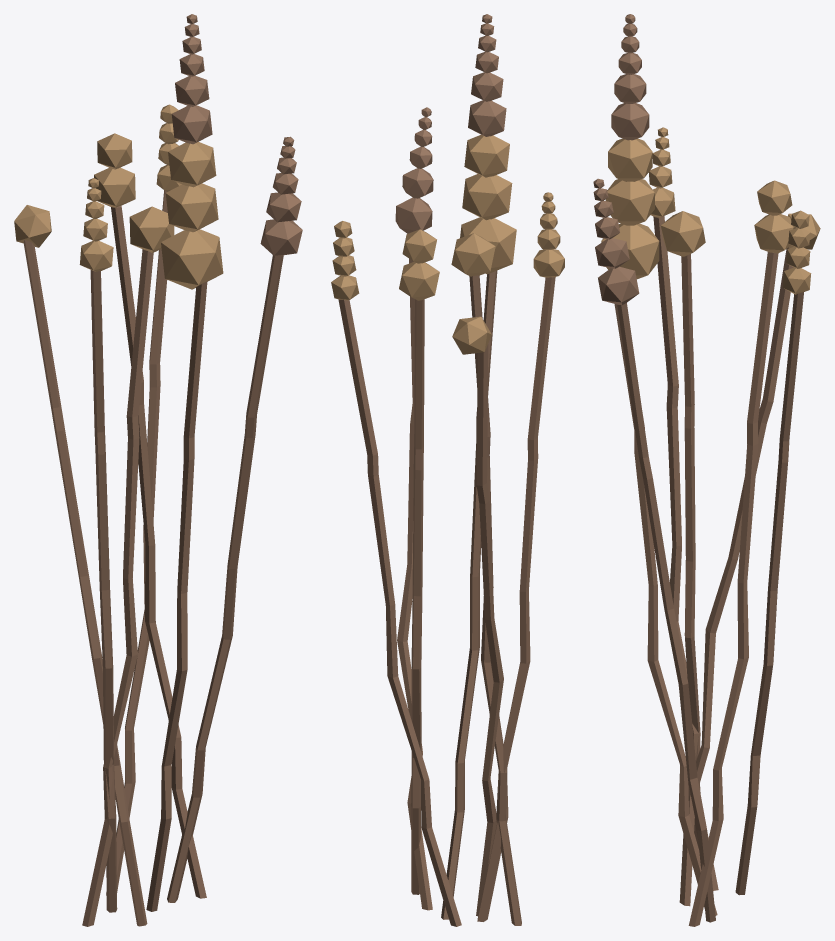
Rendered from lavanda_marchita.fbx.
3 views of the same model, side by side, from view 1: azimuth 30°, elevation 25°; view 2: azimuth 150°, elevation 25°; view 3: azimuth 270°, elevation 25° (orthographic). The views are drawn at different scales.
Visible parts, largest first — view 1: Cylinder.011; view 2: Cylinder.011; view 3: Cylinder.011.
Boxes of the visible parts, x1,y1,x2,y2 form: Cylinder.011: (14,14,302,926); Cylinder.011: (331,14,564,926); Cylinder.011: (593,14,820,926).
Bounding box in the file's own units: 8.12 × 36.56 × 8.35.
